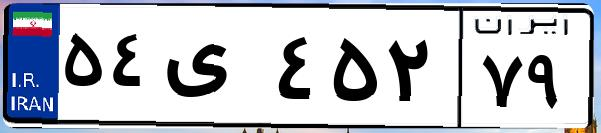2: (385, 28, 445, 110)
4: (270, 28, 330, 110), (110, 28, 158, 98)
5: (330, 28, 385, 110), (57, 26, 110, 100)
7: (475, 38, 525, 113)
9: (525, 38, 570, 115)
ی: (158, 20, 270, 120)
